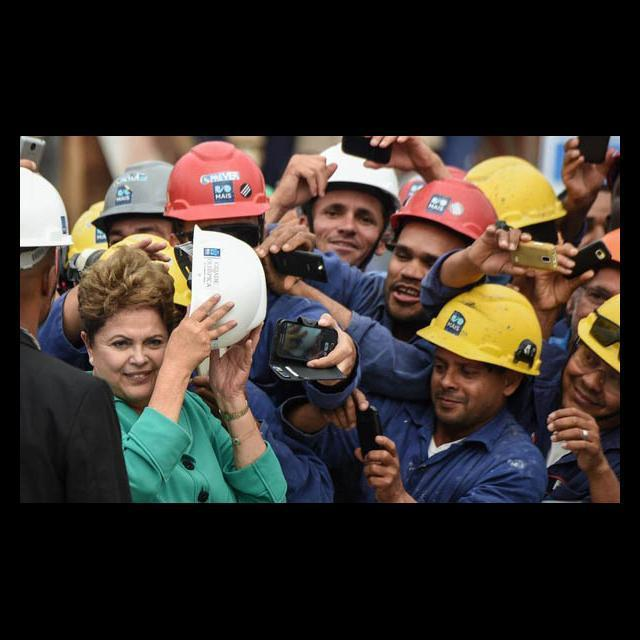helmet: (410, 272, 553, 404), (66, 187, 194, 321), (378, 162, 518, 269), (186, 211, 272, 360), (158, 136, 280, 232), (298, 134, 412, 222), (454, 154, 572, 232), (17, 138, 82, 264), (93, 155, 194, 231), (570, 287, 620, 396), (573, 225, 622, 268)
safety_vest: (27, 279, 340, 502), (166, 237, 438, 482), (274, 354, 562, 502), (532, 314, 623, 502)
